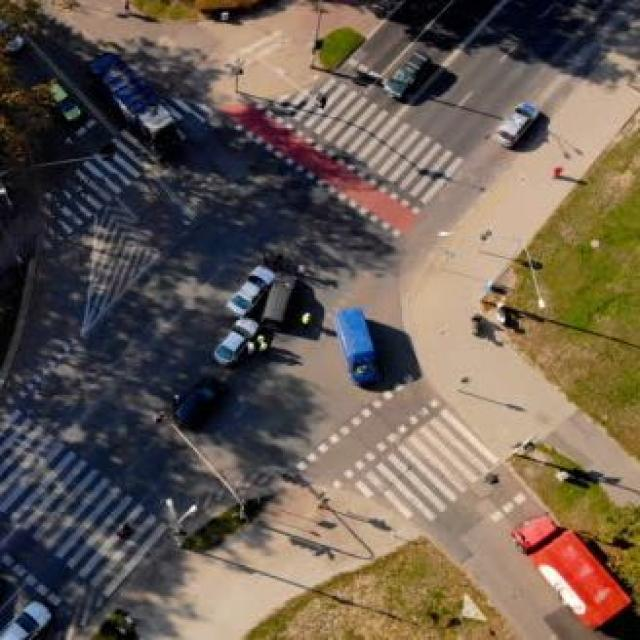traffic_incident: (201, 249, 318, 373)
